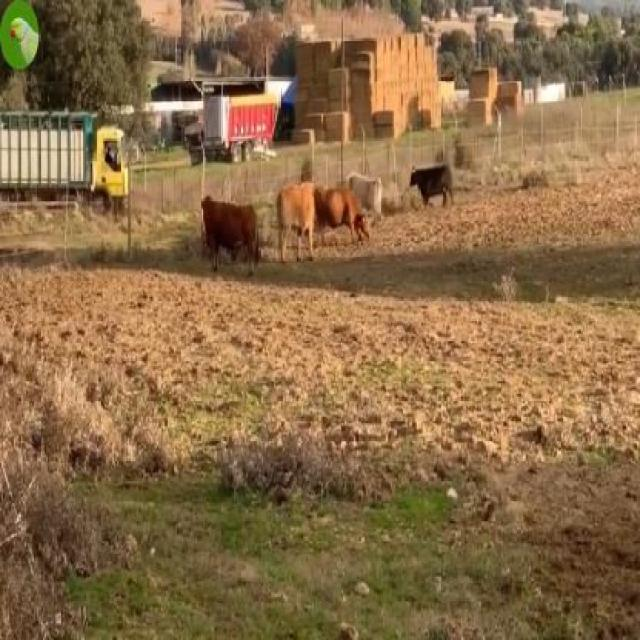Cow: (200, 194, 257, 274)
